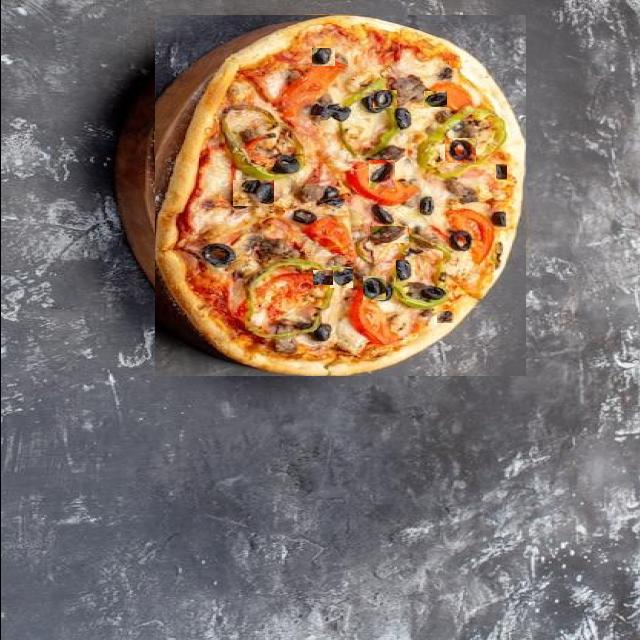olive: (232, 180, 273, 206), (444, 138, 475, 163), (368, 160, 394, 189), (202, 125, 236, 146), (312, 183, 342, 206), (369, 226, 408, 243), (360, 276, 384, 300), (329, 267, 352, 288), (372, 90, 396, 108), (418, 170, 436, 194), (395, 260, 414, 282), (311, 48, 334, 66), (290, 167, 315, 183), (423, 91, 446, 107), (312, 270, 332, 285), (436, 311, 453, 323), (494, 164, 506, 180)
pizza: (154, 15, 525, 376)
